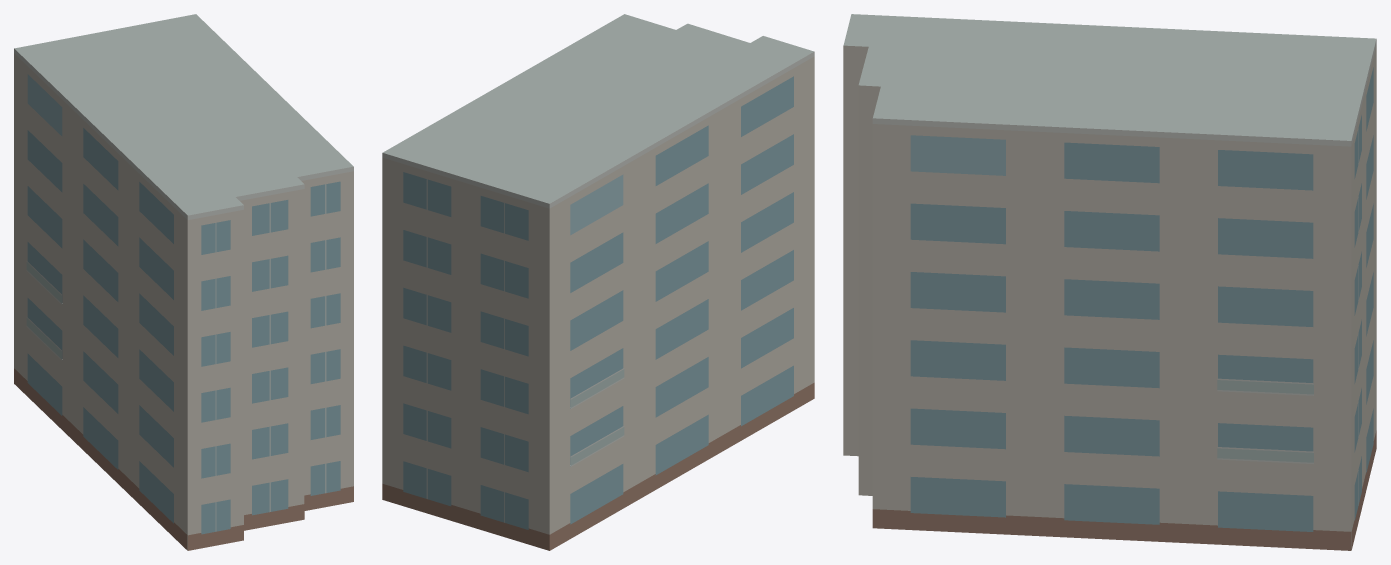
Rendered from survey-upis-32997866.glb.
3 renders of one model, left to right at view 1: azimuth 30°, elevation 25°; view 2: azimuth 150°, elevation 25°; view 3: azimuth 270°, elevation 25°, orthographic. The views are drawn at different scales.
Visible parts, largest first — view 1: survey-upis-32997866.tmp; view 2: survey-upis-32997866.tmp; view 3: survey-upis-32997866.tmp.
Part boxes in pixels (x1,y1,x2,y2): survey-upis-32997866.tmp: (14,14,353,550); survey-upis-32997866.tmp: (382,14,814,550); survey-upis-32997866.tmp: (843,14,1376,550).
Bounding box in the file's own units: 11.8 × 17.75 × 20.93.
